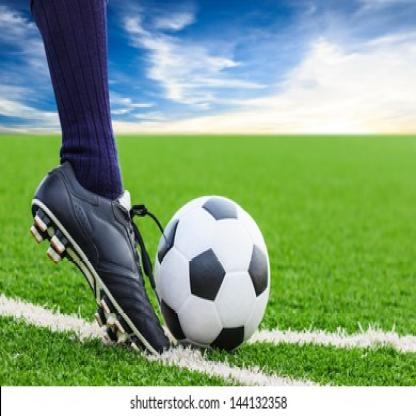ball: (153, 196, 272, 348)
